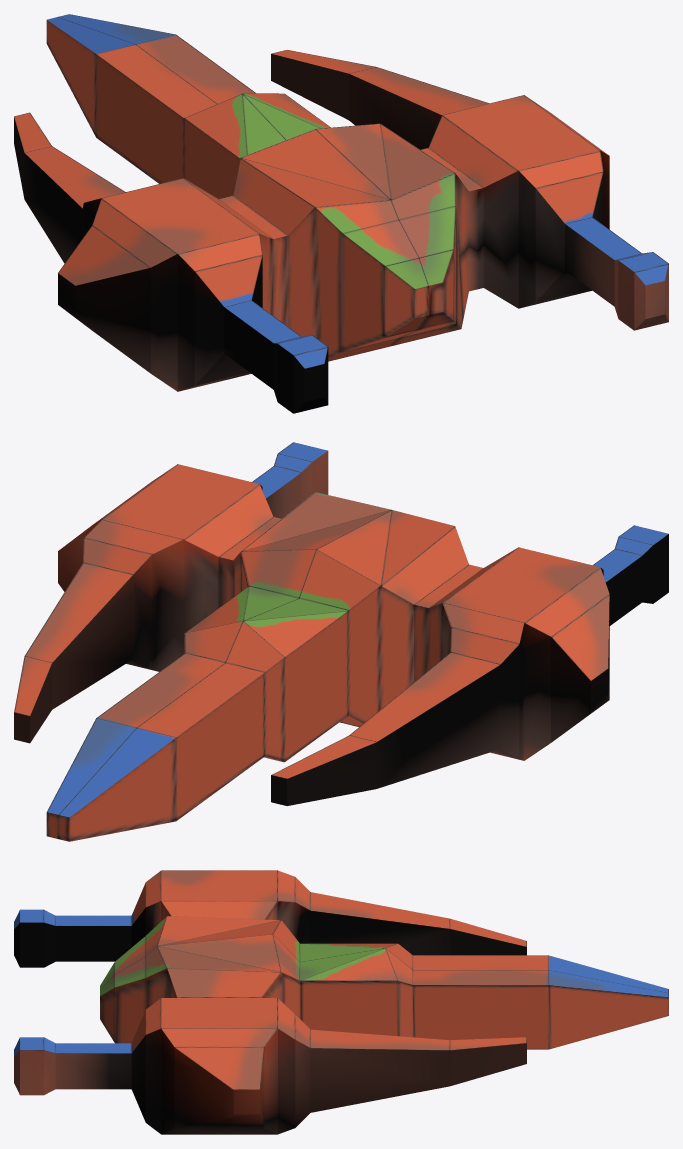
Rendered from enemyPen13Model.fbx.
The picture shows the model from 3 angles, top to bottom: view 1: azimuth 30°, elevation 25°; view 2: azimuth 150°, elevation 25°; view 3: azimuth 270°, elevation 25°; orthographic projection. The views are drawn at different scales.
Parts seen in each view (by area): view 1: Cube.001; view 2: Cube.001; view 3: Cube.001.
Part boxes in pixels (box(x1,y1,x2,y2)): Cube.001: box(14, 14, 668, 413); Cube.001: box(14, 442, 668, 841); Cube.001: box(14, 870, 668, 1134).
Size of the model in its own units: 259 by 75.35 by 360.
Materials: 1 (1 with a texture image).
